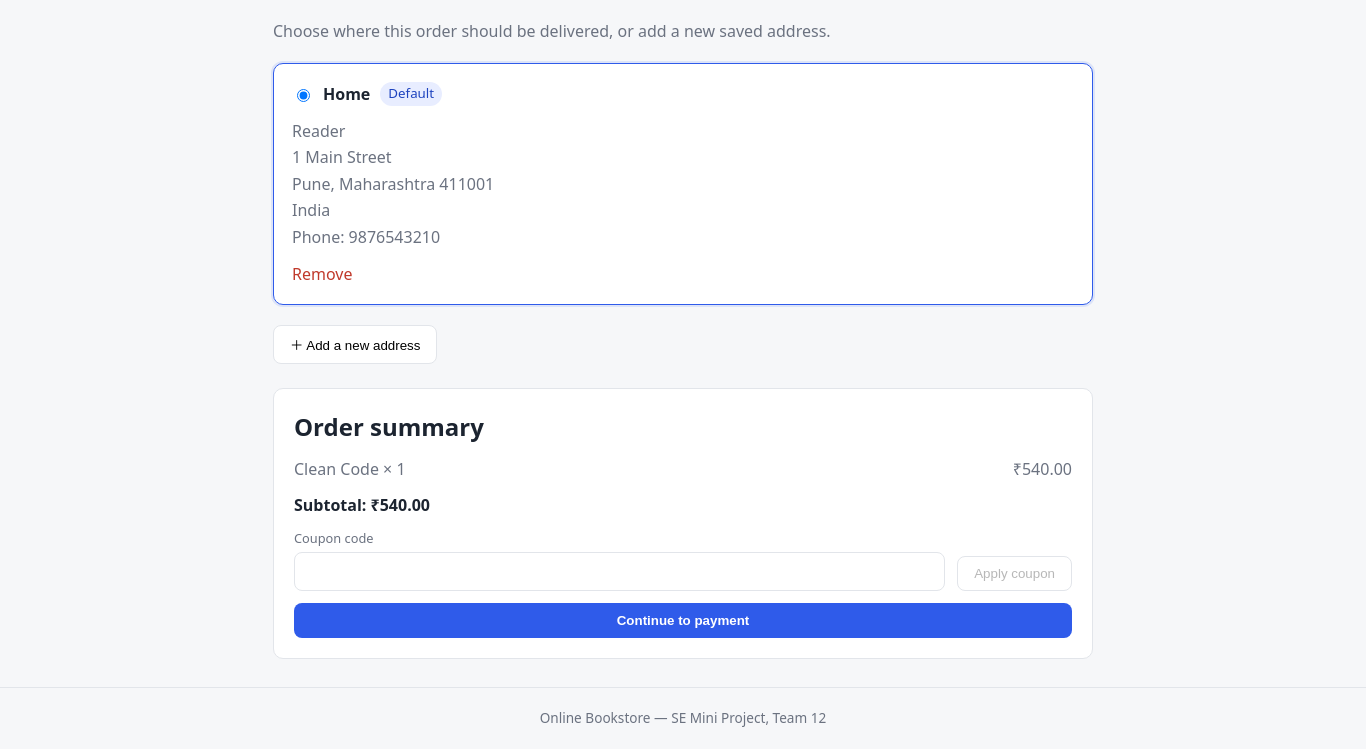
Test: catalogue frontend › uses the buyer-selected saved address in the checkout order request
(page scrolled)
Expected: the text "Home" is shown, [323,82,370,106]
Click the button "Continue to payment" at (683, 621), box [294,603,1072,638]
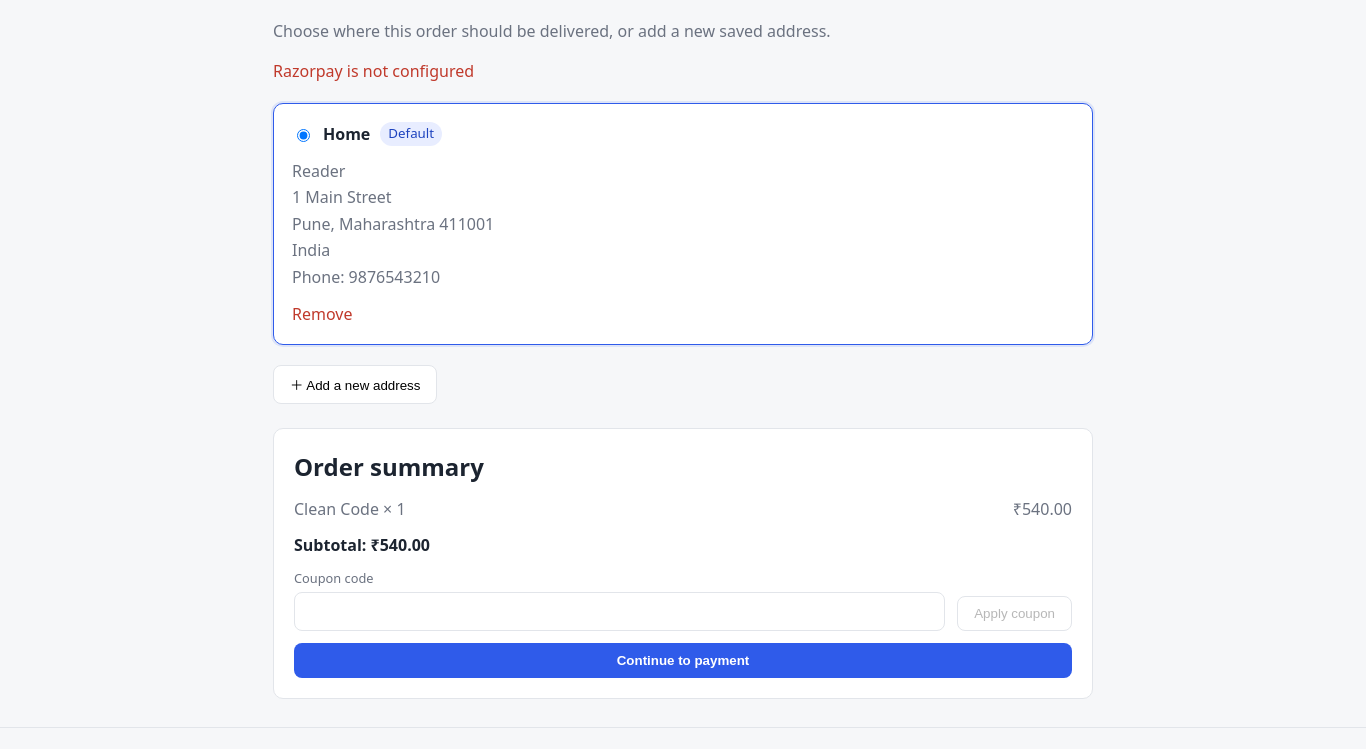
Result: the message reads "Razorpay is not configured" at [273,60,474,82]
